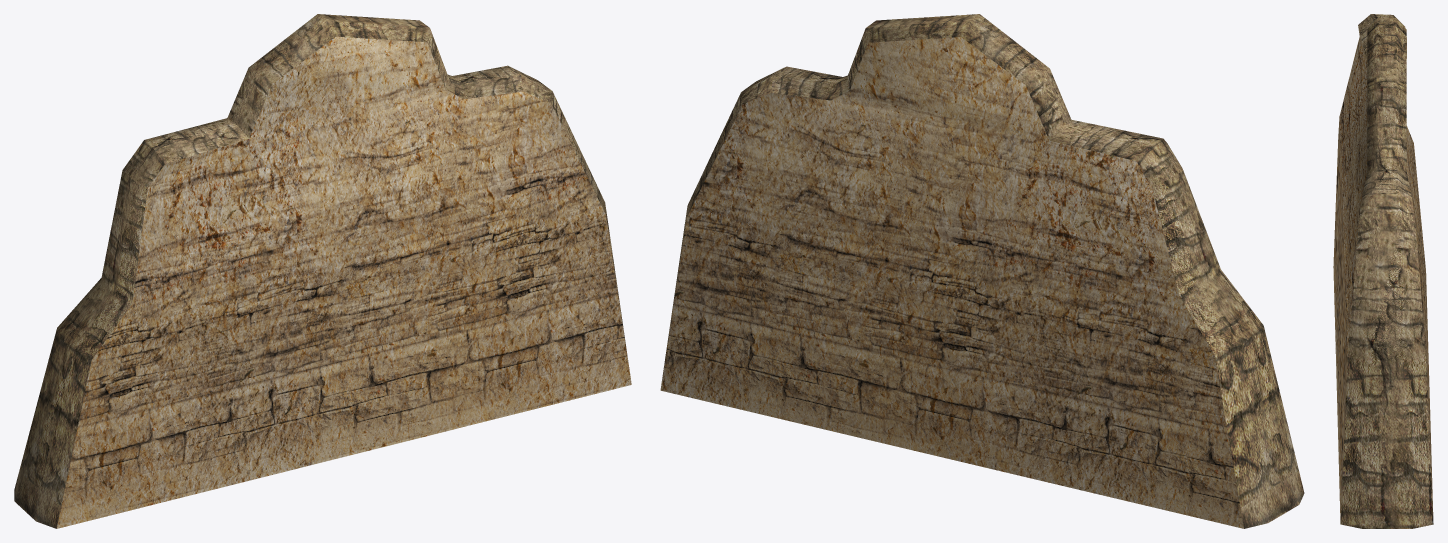
File: Ruins_Wall_05.fbx
3 renders of one model, left to right at view 1: azimuth 30°, elevation 25°; view 2: azimuth 150°, elevation 25°; view 3: azimuth 270°, elevation 25°, orthographic. The views are drawn at different scales.
Visible parts, largest first — view 1: Ruins_Wall_05; view 2: Ruins_Wall_05; view 3: Ruins_Wall_05.
Part boxes in pixels (bbox=[...]): Ruins_Wall_05: bbox=[14, 14, 631, 528]; Ruins_Wall_05: bbox=[660, 14, 1304, 528]; Ruins_Wall_05: bbox=[1333, 14, 1433, 528].
Size of the model in its own units: 4.83 by 3.23 by 0.7703.
2 materials, 2 textured.
